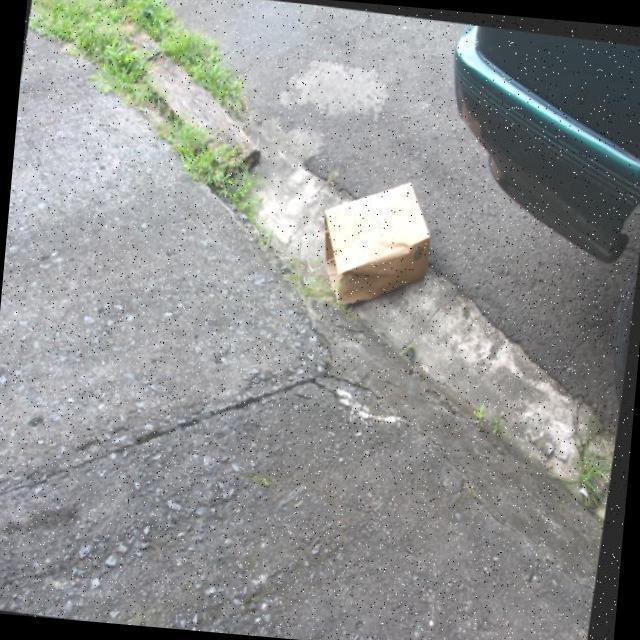Paper_Bag: (303, 167, 442, 318)
